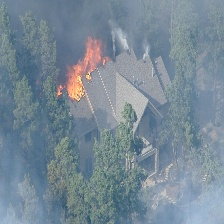fire: (59, 43, 107, 100)
smoke: (159, 168, 224, 220), (109, 24, 157, 58)
